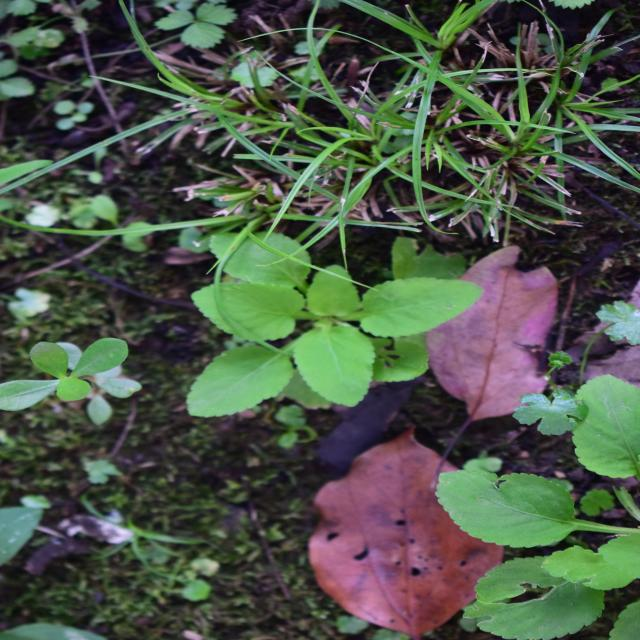Viola: (225, 161, 401, 468)
